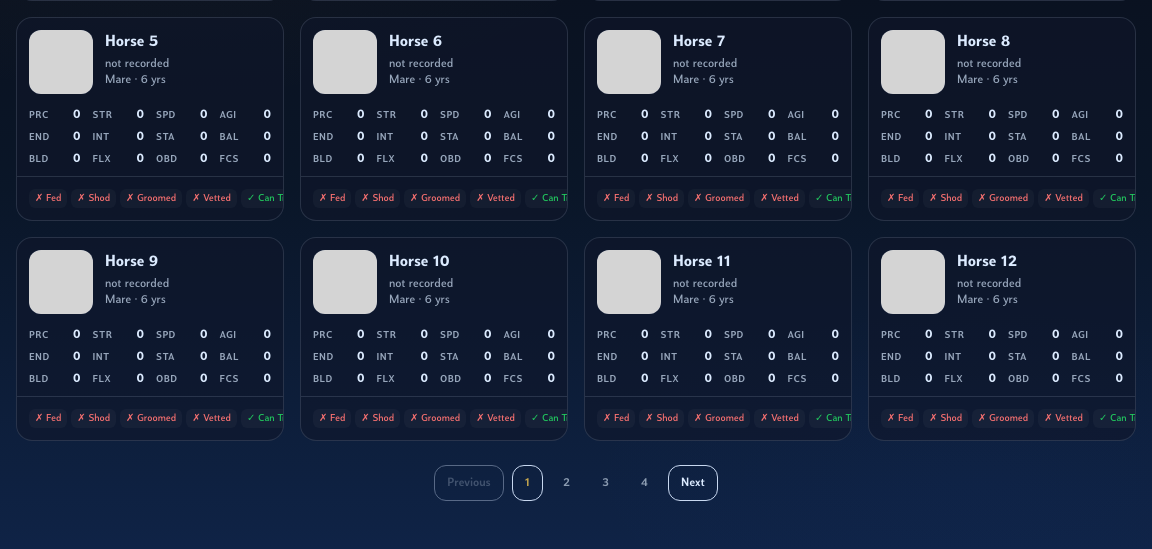
Test: StableView — paging after a category switch (Equoria-t1vz2) › Next from the first page of Mares shows page 2, not page 3
The width and height of the screenshot is (1152, 549).
(page scrolled)
Click the button "4".
click(644, 483)  # box [629,465,660,501]
(page scrolled)
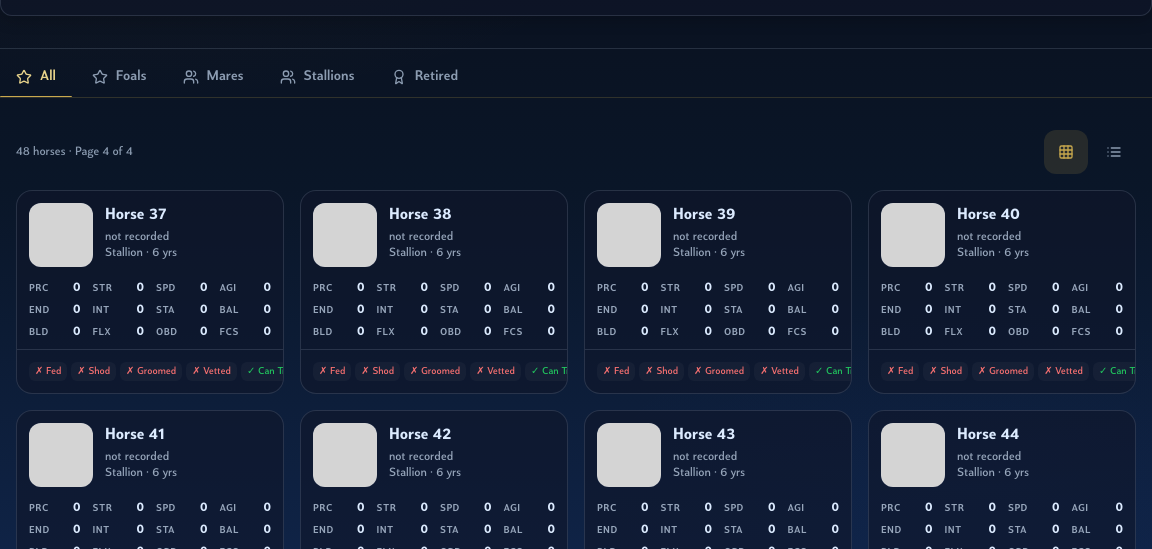
Now the text "48 horses · Page 4 of 4" is shown, box [16,144,133,160]
Click the tab "Mares".
click(213, 77)  # box [167,57,260,97]
(page scrolled)
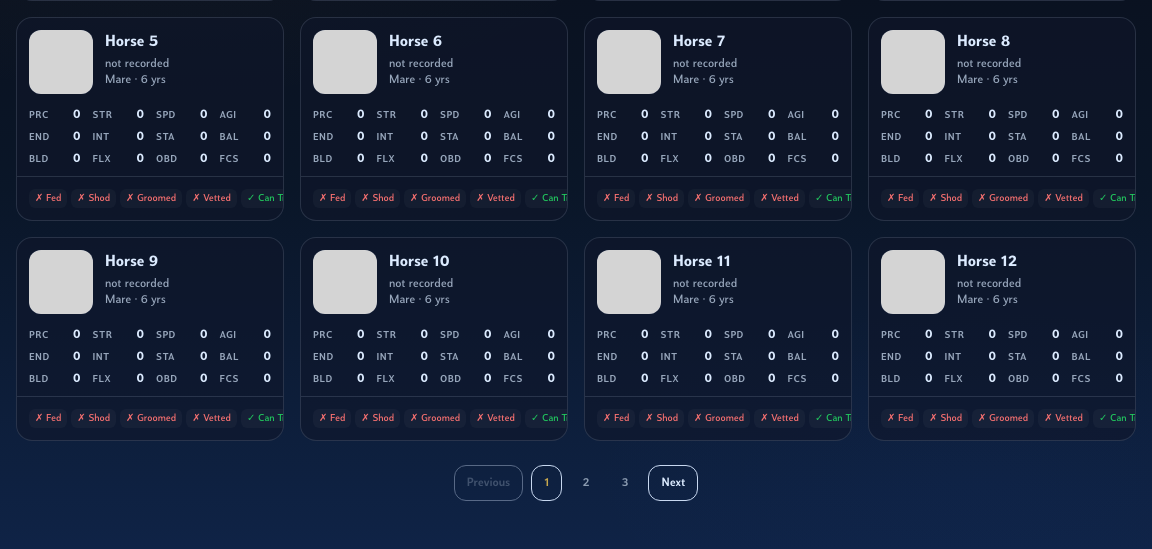
Click the button "Next".
click(673, 483)  # box [648,465,698,501]
(page scrolled)
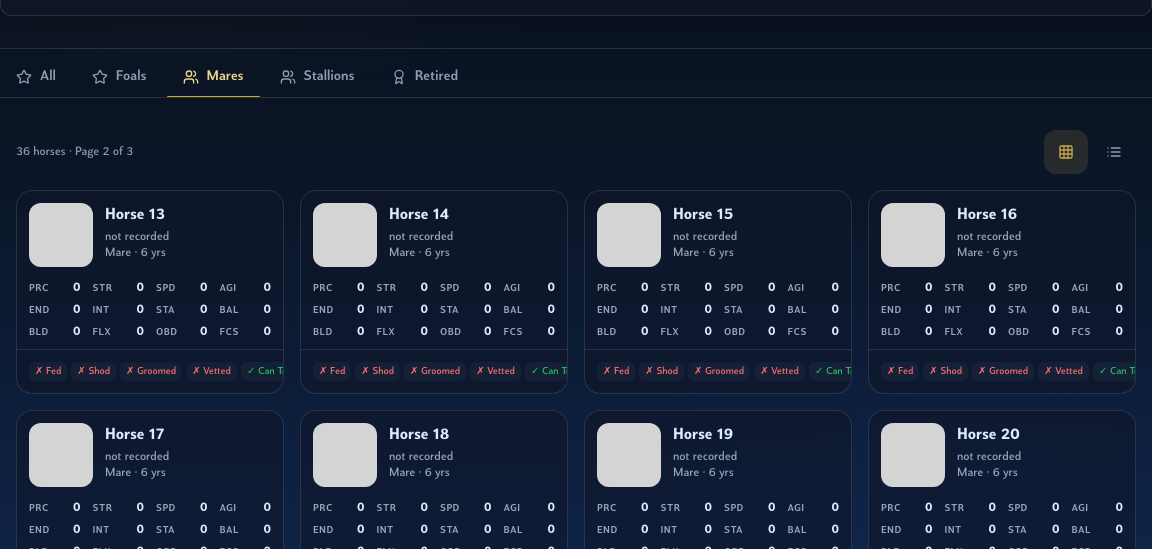
Now the text "36 horses · Page 2 of 3" is shown, box [16,144,133,160]
